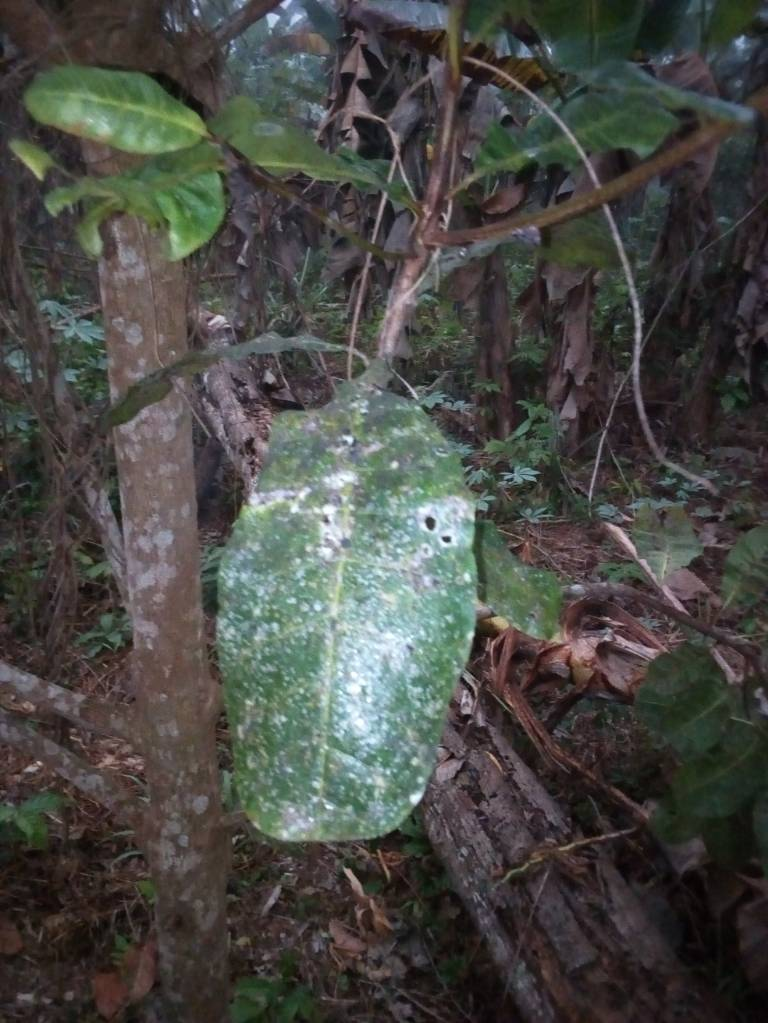Oidium: (160, 366, 496, 883)
